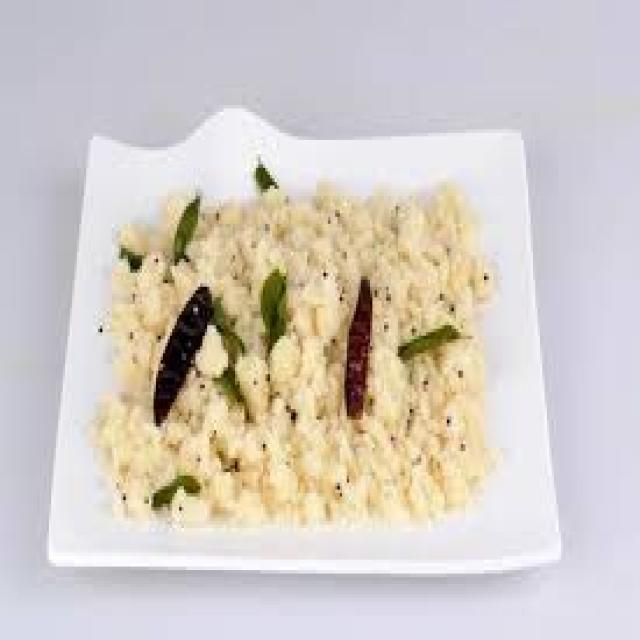UPMA: (86, 185, 496, 521)
